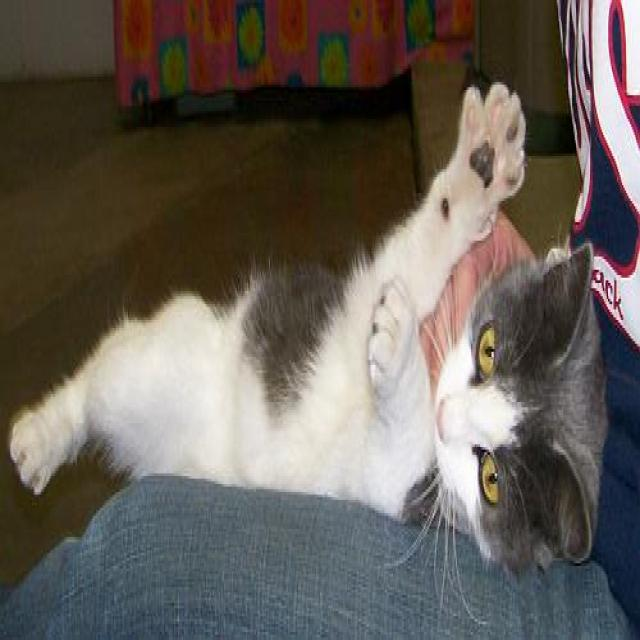Cats: (8, 77, 527, 521), (384, 235, 609, 619)
